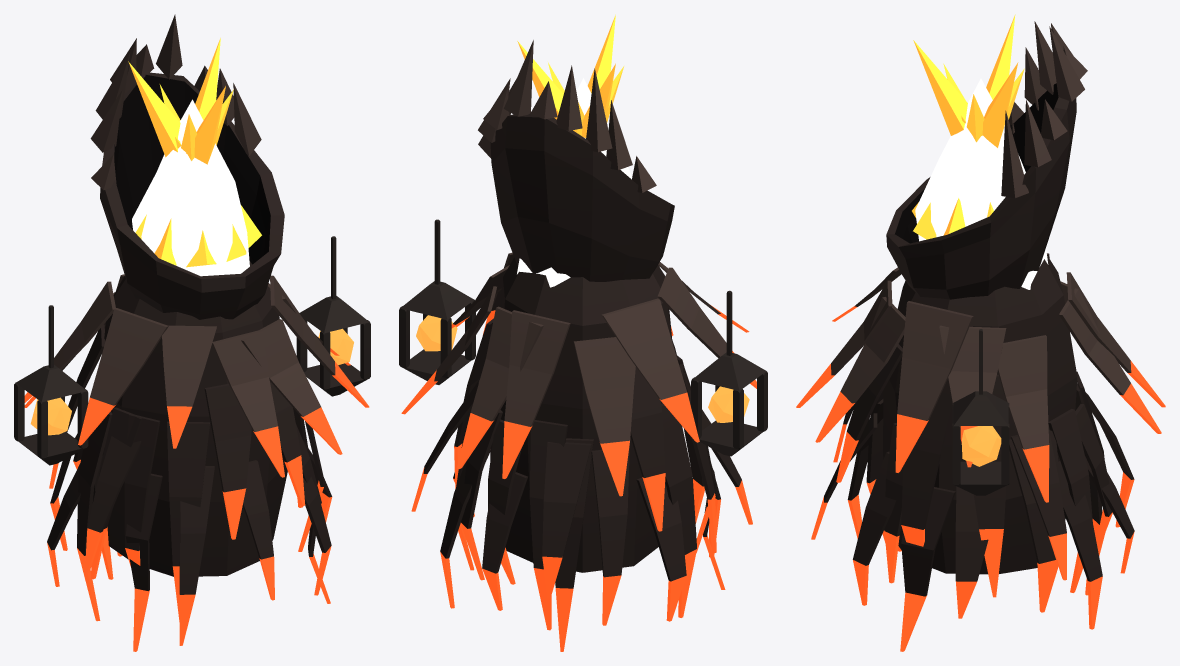
The model's file is ember.glb.
3 views of the same model, side by side, from view 1: azimuth 30°, elevation 25°; view 2: azimuth 150°, elevation 25°; view 3: azimuth 270°, elevation 25° (orthographic). The views are drawn at different scales.
Parts seen in each view (by area): view 1: mantle, hood, core, lanternR, lanternL; view 2: mantle, hood, lanternR, lanternL, core; view 3: mantle, hood, core, lanternL.
Part boxes in pixels (x1,y1,x2,y2): mantle: [24, 261, 369, 651]; hood: [90, 14, 284, 319]; core: [128, 38, 261, 276]; lanternR: [14, 305, 88, 465]; lanternL: [296, 236, 370, 396]; mantle: [401, 252, 756, 651]; hood: [478, 40, 674, 281]; lanternR: [691, 290, 767, 456]; lanternL: [399, 219, 475, 384]; core: [517, 14, 632, 287]; mantle: [796, 253, 1165, 651]; hood: [886, 21, 1087, 299]; core: [912, 14, 1048, 289]; lanternL: [952, 329, 1009, 495].
Bounding box in the file's own units: 2.45 × 4.03 × 2.28.
